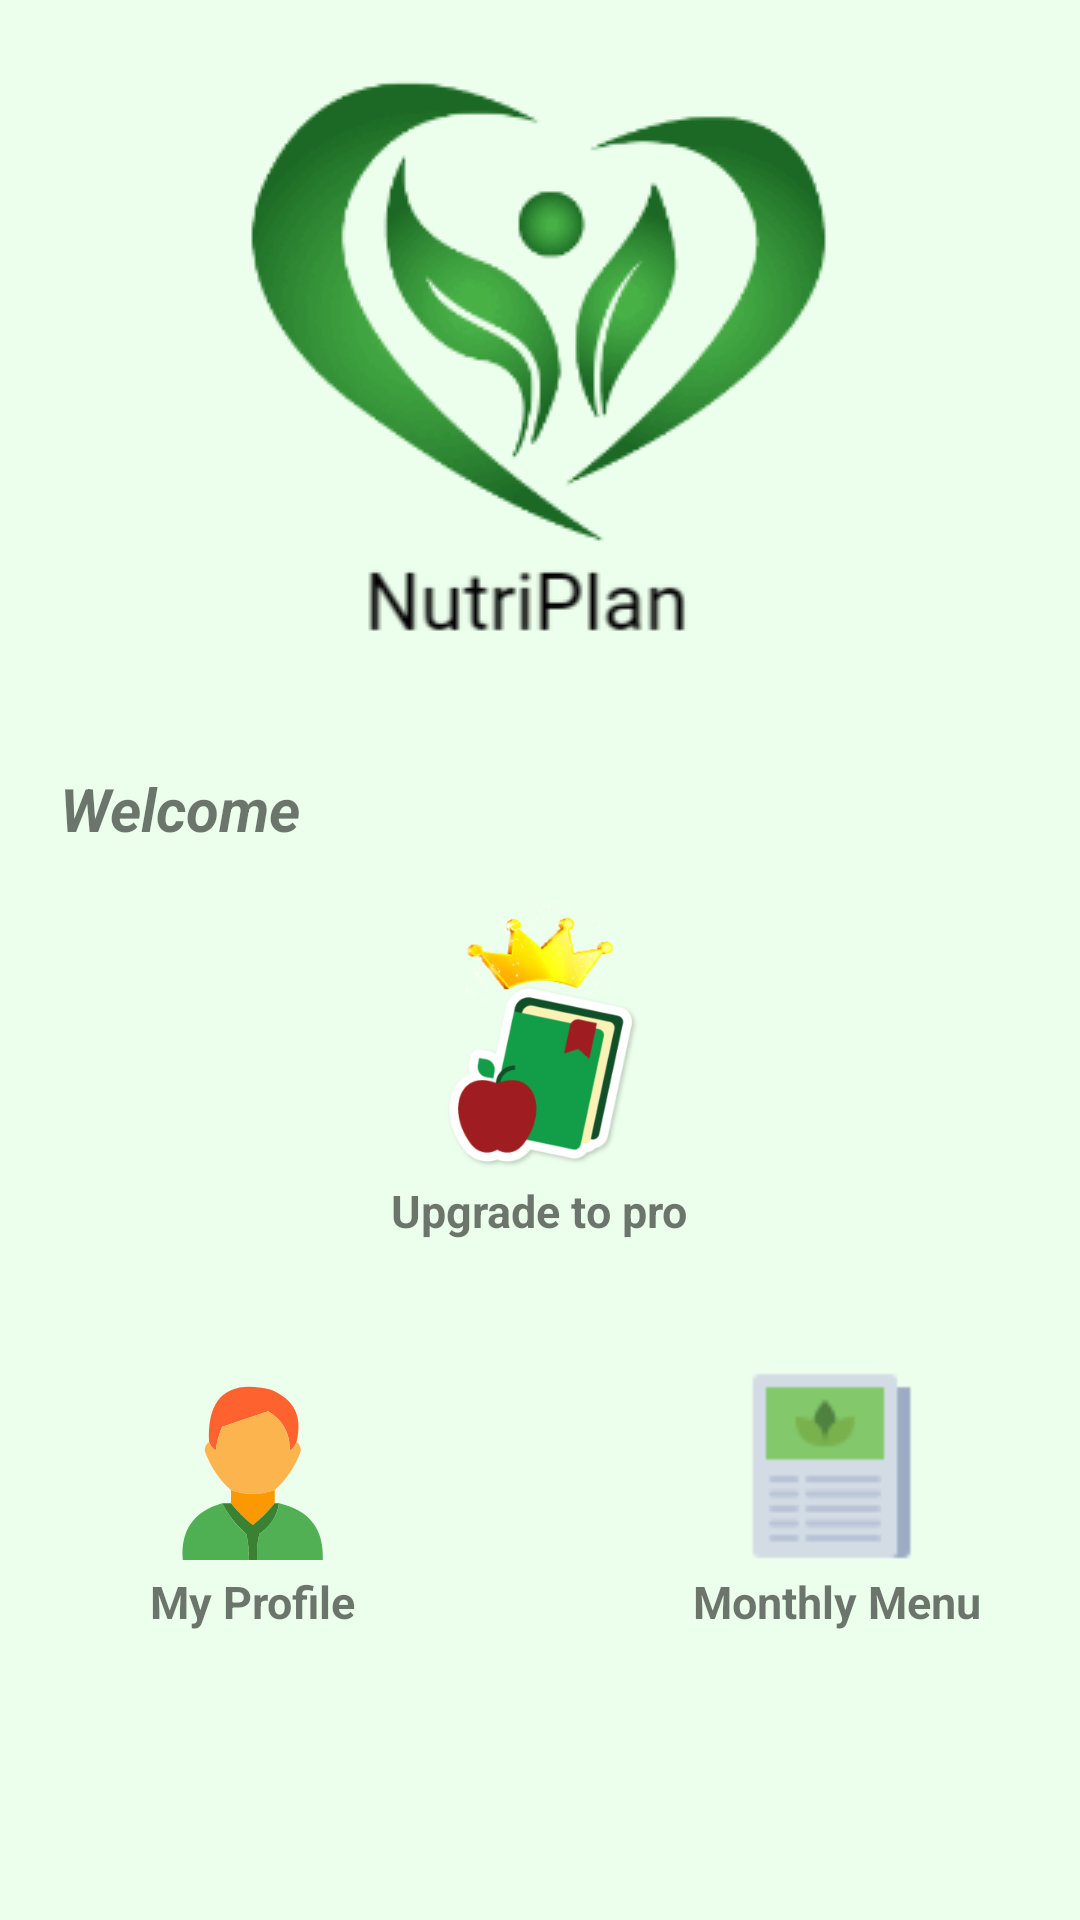

Icon click points for this 1080 x 1920 phone screenshot, format (x=x, y=y):
crown: (x=540, y=953)
